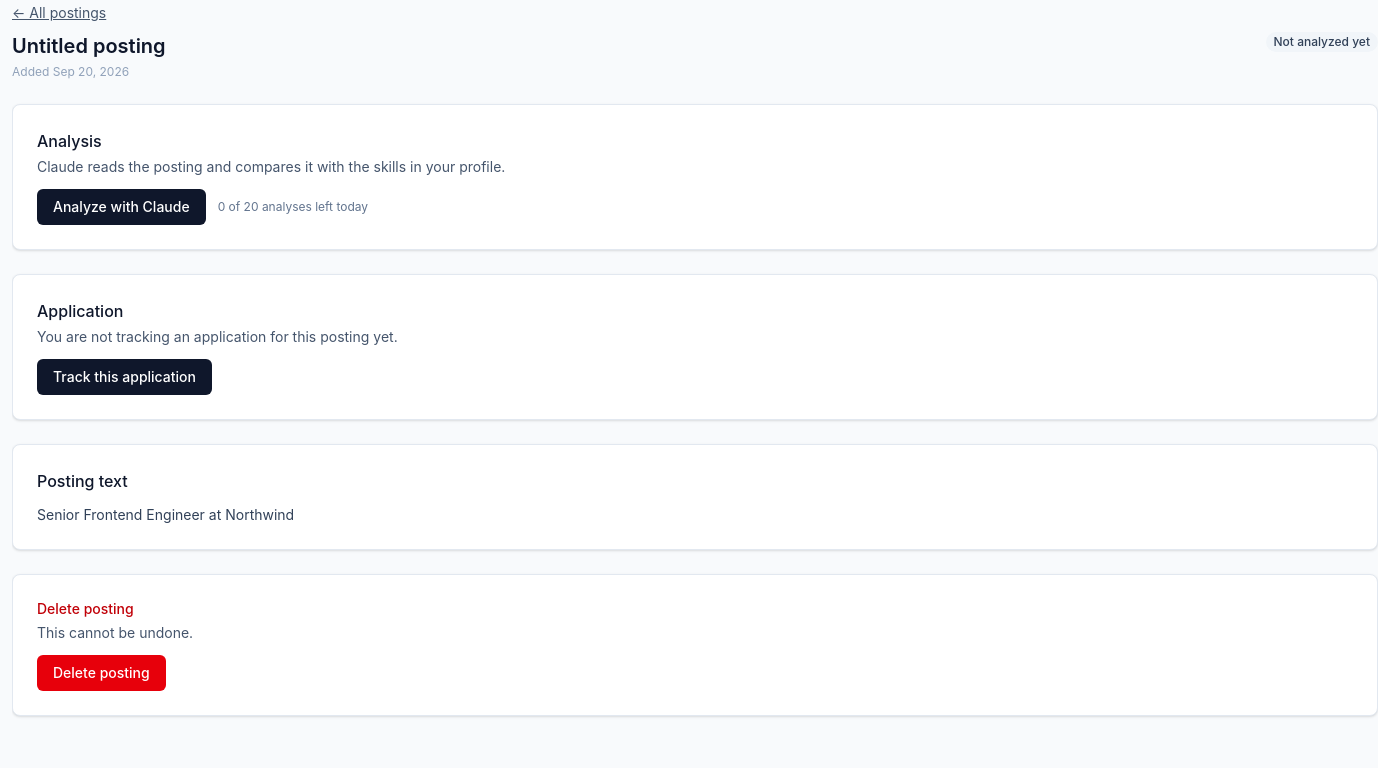
Test: PostingDetailPage › shows the daily limit message when the quota is used up
What coordinates should you click on to do the following:
click the button "Analyze with Claude"
I would click on:
 (121, 207)
Its box is x1=37 y1=189 x2=206 y2=225.
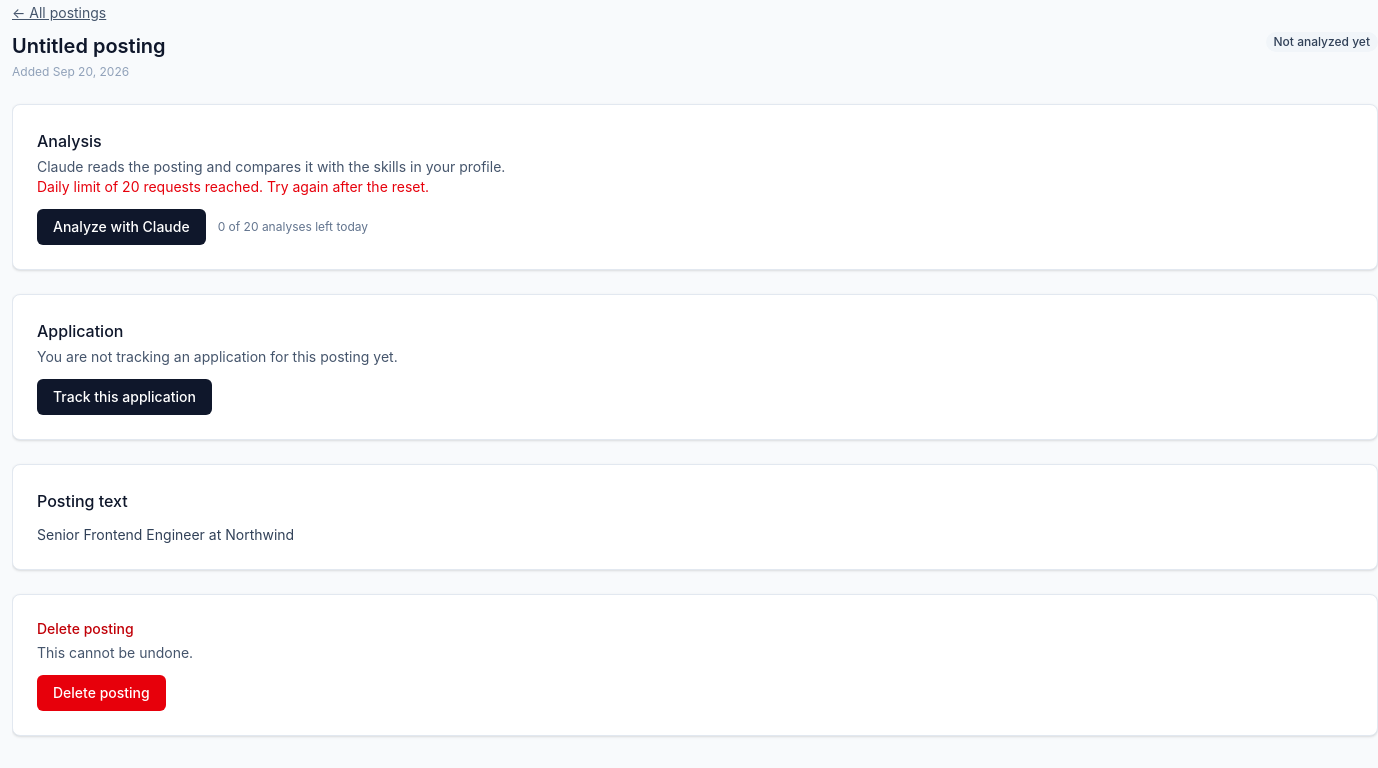
Check: the message shows "Daily limit of 20 requests", box x1=37 y1=178 x2=429 y2=195
